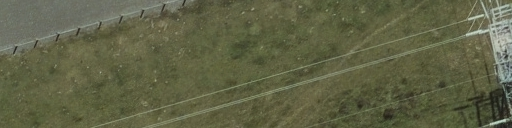TT: (470, 1, 512, 108)
